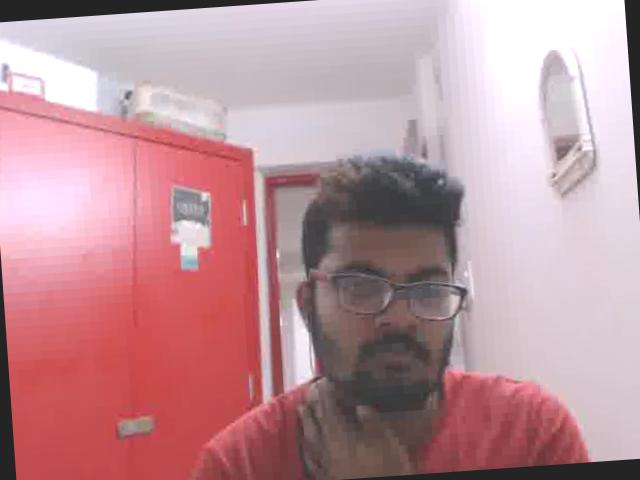bingung: (308, 216, 466, 409)
